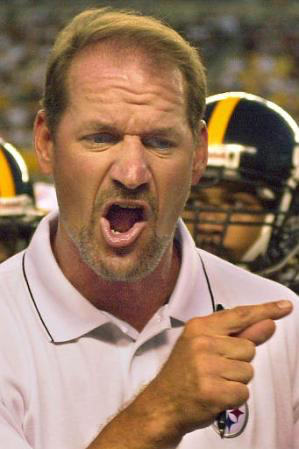Face: (62, 74, 190, 289), (178, 176, 274, 265)
